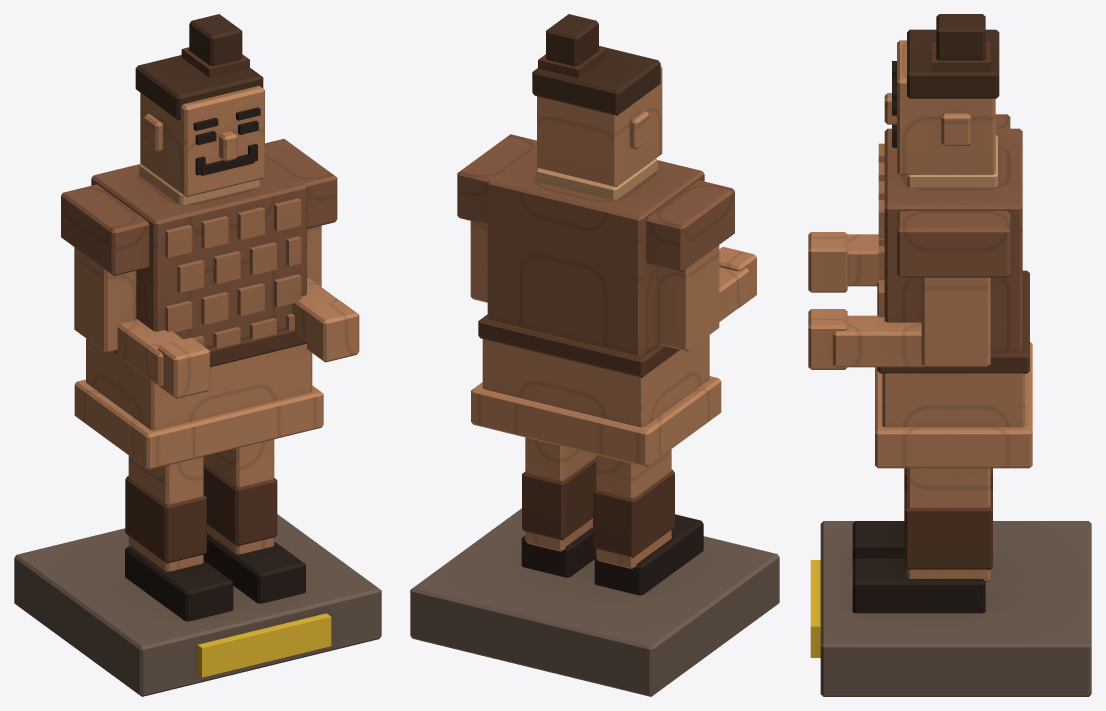
The model's file is TerracottaWarrior.fbx.
3 renders of one model, left to right at view 1: azimuth 30°, elevation 25°; view 2: azimuth 150°, elevation 25°; view 3: azimuth 270°, elevation 25°, orthographic. The views are drawn at different scales.
Parts seen in each view (by area): view 1: Art_TerracottaWarrior; view 2: Art_TerracottaWarrior; view 3: Art_TerracottaWarrior.
Part boxes in pixels (x1,y1,x2,y2): Art_TerracottaWarrior: [14, 14, 381, 696]; Art_TerracottaWarrior: [410, 14, 779, 696]; Art_TerracottaWarrior: [808, 14, 1091, 696].
Size of the model in its own units: 1.2 by 2.8 by 1.15.
